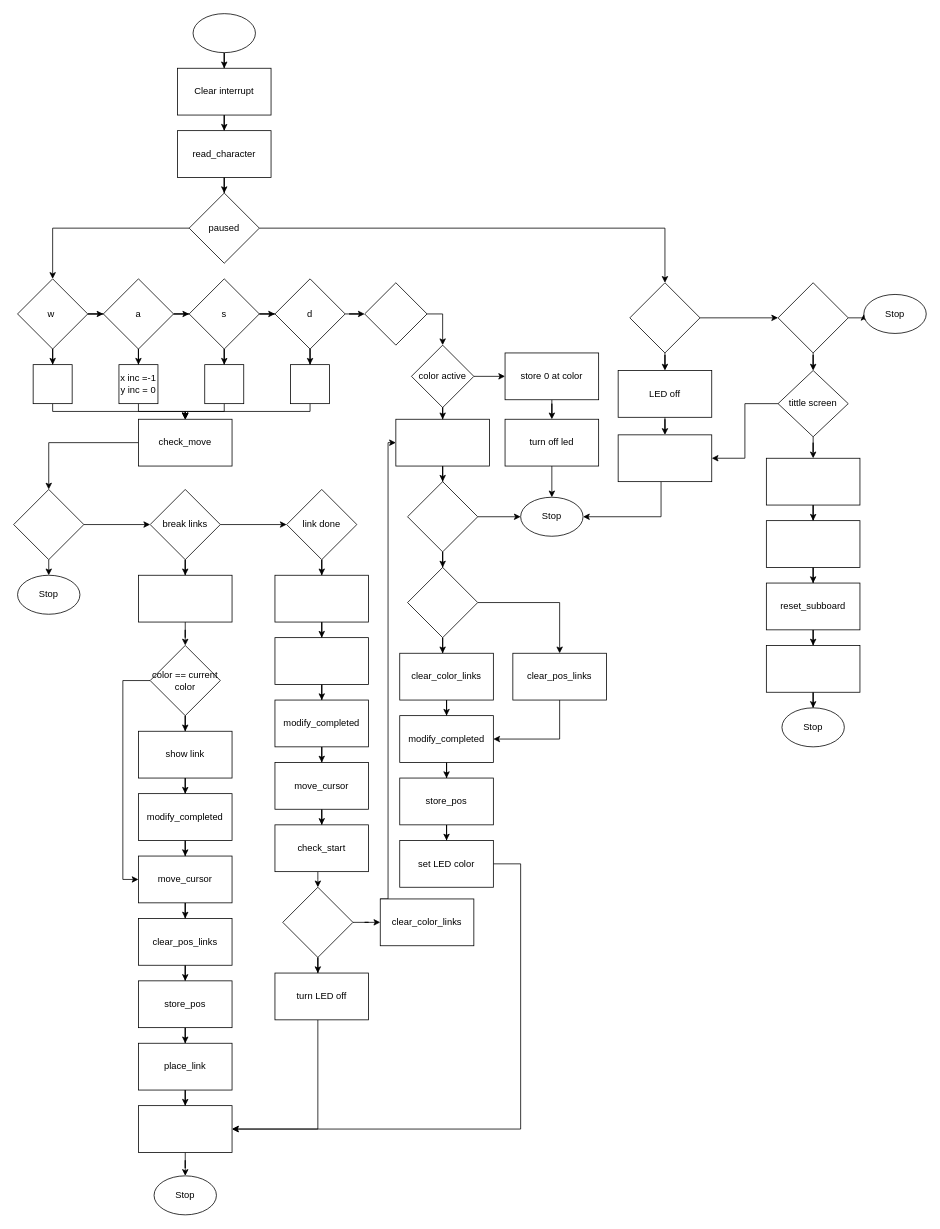
The diagram is 940 pixels wide and 1229 high, and some of its shapes have lost their labels. The centre of each missing label's shape, as x and y in pixels:
at start: (x=317, y=921)
Enter: (x=812, y=317)
ESC: (x=664, y=317)
get color to break: (x=185, y=598)
get_color: (x=442, y=442)
init_game: (x=664, y=458)
load color: (x=321, y=598)
no color: (x=442, y=516)
not safe: (x=48, y=524)
output curor: (x=185, y=1128)
reset_game: (x=813, y=481)
restart_game: (x=813, y=543)
show_link: (x=321, y=660)
space: (x=395, y=313)
Start: (x=223, y=33)
Start on O: (x=442, y=602)
unpause: (x=813, y=668)
x inc = 0 y inc = 1: (x=224, y=384)
x inc = 0 y inc =-1: (x=52, y=384)
x inc = 1 y inc = 0: (x=310, y=384)
